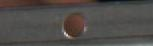holes: (60, 12, 88, 38)
